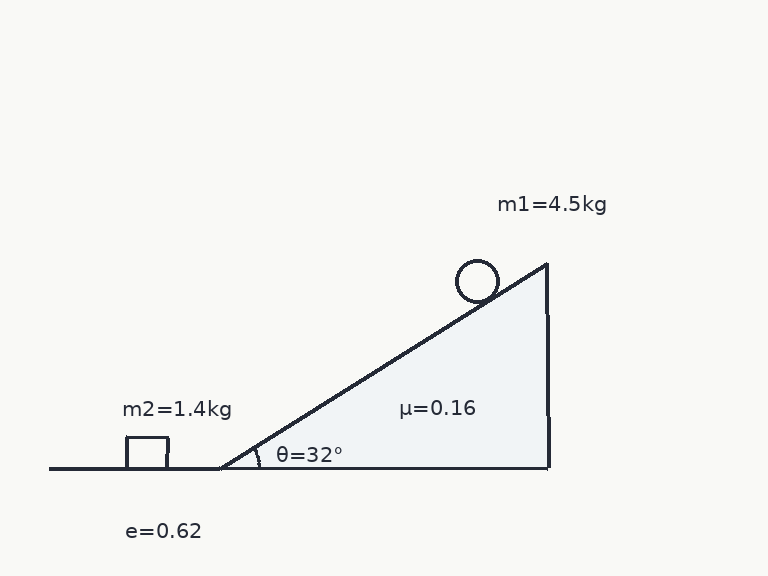ball: (453, 257, 501, 305)
block: (124, 435, 170, 470)
ramp: (217, 261, 548, 470)
